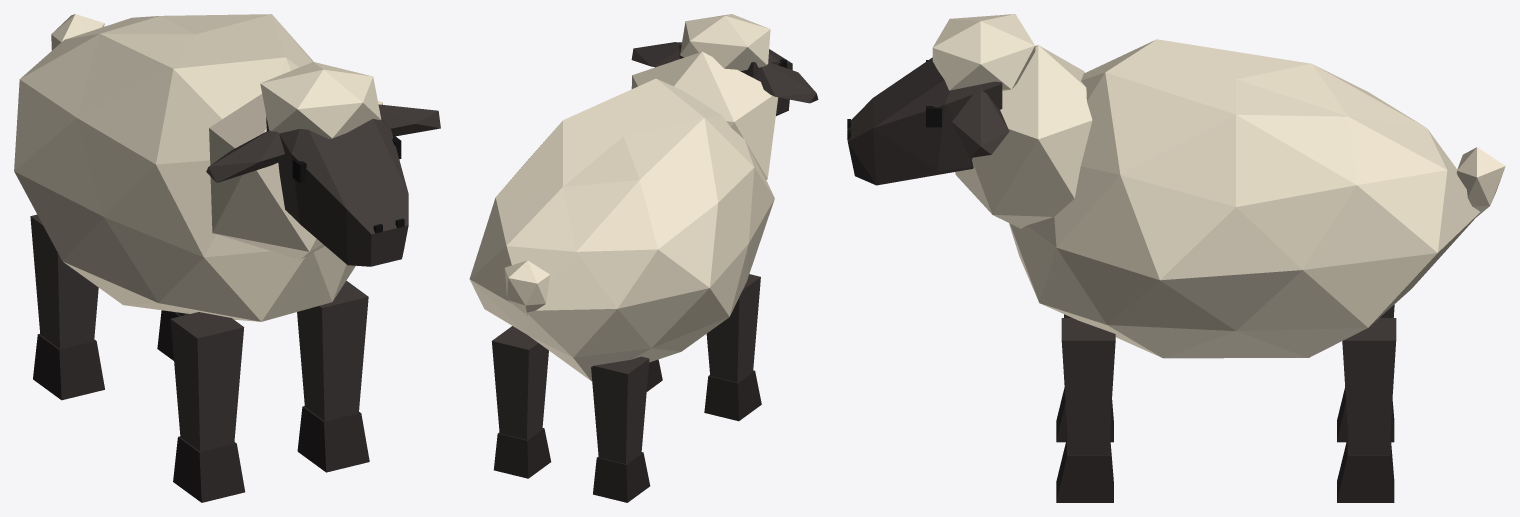
Rendered from sheep.glb.
3 renders of one model, left to right at view 1: azimuth 30°, elevation 25°; view 2: azimuth 150°, elevation 25°; view 3: azimuth 270°, elevation 25°, orthographic. The views are drawn at different scales.
Visible parts, largest first — view 1: sheep_koerper, sheep_gesicht, sheep_nacken, sheep_leg_fl_bein, sheep_leg_fr_bein, sheep_kappe, sheep_leg_bl_bein, sheep_leg_fl_huf, sheep_leg_bl_huf, sheep_leg_fr_huf, sheep_ohrL, sheep_ohrR (+2 smaller); view 2: sheep_koerper, sheep_nacken, sheep_leg_br_bein, sheep_leg_bl_bein, sheep_kappe, sheep_leg_fl_bein, sheep_leg_br_huf, sheep_leg_bl_huf, sheep_leg_fl_huf, sheep_schwanz, sheep_ohrL, sheep_ohrR (+1 smaller); view 3: sheep_koerper, sheep_nacken, sheep_gesicht, sheep_leg_fr_bein, sheep_kappe, sheep_leg_br_bein, sheep_leg_fr_huf, sheep_leg_br_huf, sheep_ohrR, sheep_schwanz.
Part boxes in pixels (x1,y1,x2,y2): sheep_koerper: (14,14,355,321); sheep_gesicht: (266,117,408,266); sheep_nacken: (209,94,382,259); sheep_leg_fl_bein: (170,312,244,451); sheep_leg_fr_bein: (297,280,368,421); sheep_kappe: (260,62,381,138); sheep_leg_bl_bein: (30,214,98,348); sheep_leg_fl_huf: (173,436,245,502); sheep_leg_bl_huf: (33,334,104,400); sheep_leg_fr_huf: (297,406,369,472); sheep_ohrL: (206,130,284,182); sheep_ohrR: (378,104,440,136); sheep_koerper: (469,78,774,381); sheep_nacken: (631,51,778,179); sheep_leg_br_bein: (491,326,548,439); sheep_leg_bl_bein: (591,356,649,463); sheep_kappe: (680,14,770,70); sheep_leg_fl_bein: (706,274,760,382); sheep_leg_br_huf: (493,428,551,478); sheep_leg_bl_huf: (593,452,650,502); sheep_leg_fl_huf: (704,370,761,421); sheep_schwanz: (504,260,550,315); sheep_ohrL: (755,62,818,103); sheep_ohrR: (631,42,681,67); sheep_koerper: (1009,39,1480,358); sheep_nacken: (955,45,1092,228); sheep_gesicht: (847,57,1002,185); sheep_leg_fr_bein: (1061,318,1115,454); sheep_kappe: (932,14,1035,91); sheep_leg_br_bein: (1342,318,1396,454); sheep_leg_fr_huf: (1056,437,1113,502); sheep_leg_br_huf: (1337,437,1394,502); sheep_ohrR: (952,88,1009,157); sheep_schwanz: (1456,147,1505,216).
Size of the model in its own units: 0.9441 by 1.35 by 1.83.
